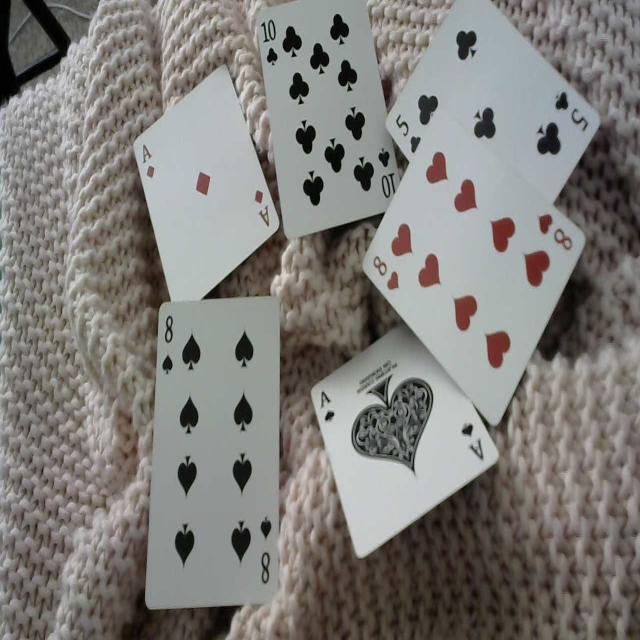10C: (376, 137, 398, 203), (260, 14, 282, 66)
5C: (552, 82, 589, 133), (395, 108, 424, 156)
8H: (534, 206, 574, 259), (372, 251, 401, 294)
8S: (258, 512, 274, 591), (160, 313, 176, 379)
AD: (250, 185, 272, 234), (138, 134, 156, 182)
AS: (460, 417, 488, 465), (318, 384, 337, 426)
